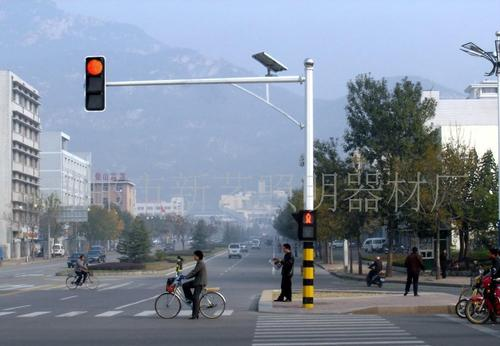red: (82, 55, 109, 115)
